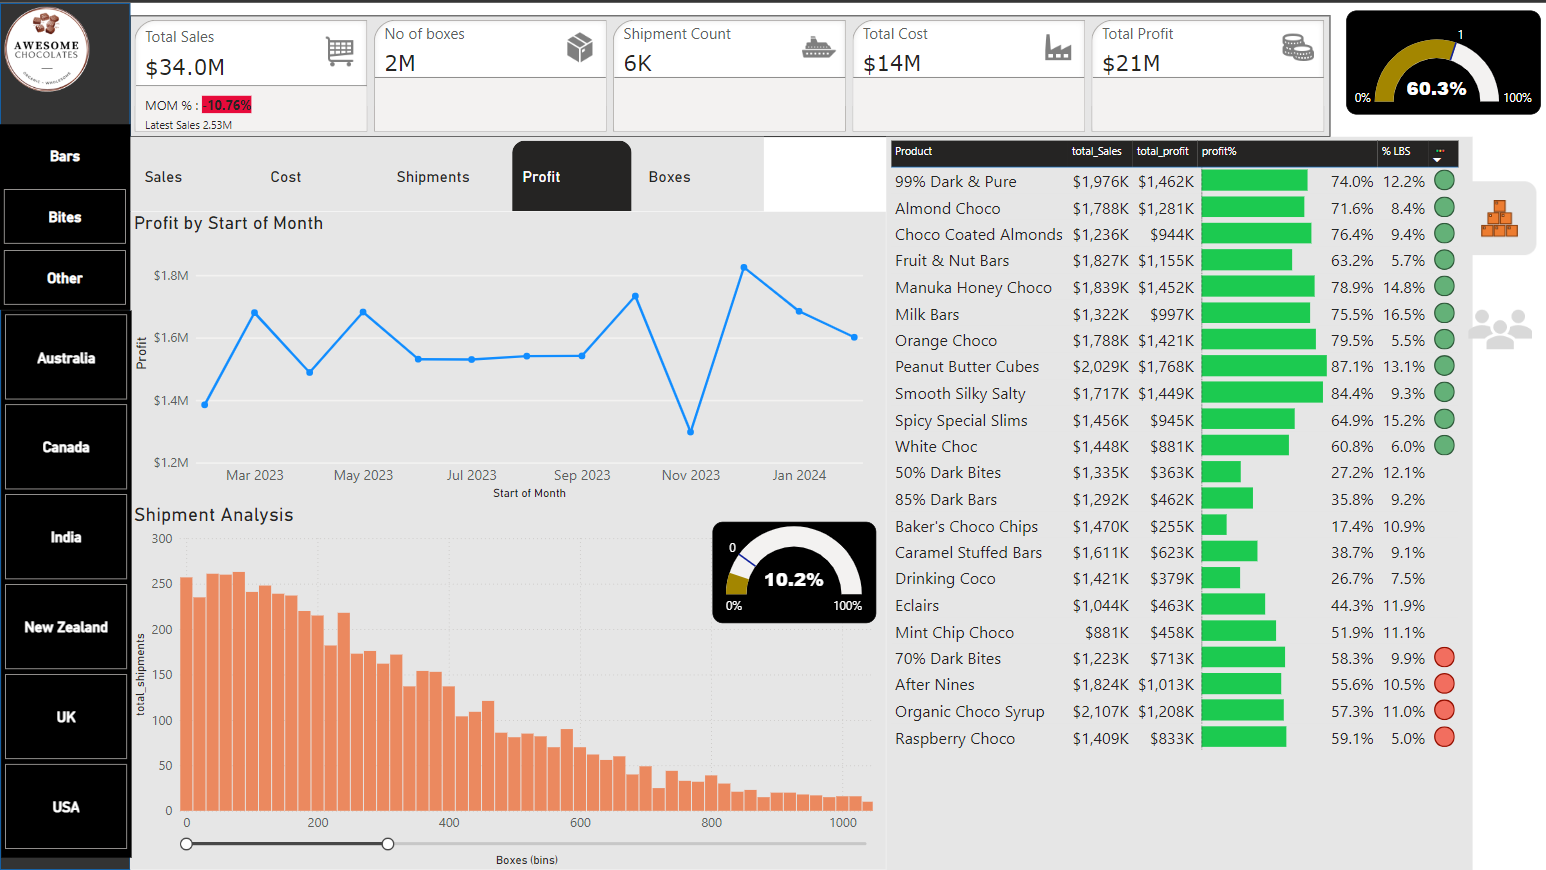

Layout of this report page (visuals, bound fields, positions):
{"tool":"powerbi","page":{"name":"Final Report","canvas":[1920,1080],"ordinal":0},"visuals":[{"type":"gauge","title":"Profit %","fields":{"Y":["_measures.profit%"]},"box":[1677.2,8.7,242.4,129.8],"z":0},{"type":"cardVisual","fields":{"Data":["_measures.total_Sales","_measures.Total_boxes","_measures.total_shipments","_measures.total_cost","_measures.total_profit"]},"box":[162.3,15.1,1495.4,151.5],"z":1000},{"type":"shape","box":[0,0,162.3,1079.9],"z":2000},{"type":"image","box":[0,0,116.9,115.4],"z":3000},{"type":"lineChart","fields":{"Y":["_measures.total_profit"],"Category":["calendar.Start of Month"]},"box":[162.3,259.7,941.4,363.6],"z":4000},{"type":"advancedSlicerVisual","fields":{"Values":["Measure Selector.Measure Selector"]},"box":[162.3,166.6,789.9,93.1],"z":5000},{"type":"columnChart","title":"Shipment Analysis","fields":{"Category":["shipments.Boxes (bins)"],"Y":["_measures.total_shipments"]},"box":[162.3,623.3,941.4,456.6],"z":6000},{"type":"gauge","fields":{"Y":["_measures.% LBS"]},"box":[887.8,645.7,203.6,126.6],"z":7000},{"type":"tableEx","title":"Product Table","fields":{"Values":["shipments.Product","_measures.total_Sales","_measures.total_profit","_measures.profit%","_measures.% LBS","_measures.Profit % Indicator"]},"box":[1104.2,166.9,730,913.5],"z":9000},{"type":"image","title":"Product Higlight","box":[1817.9,214.3,101.7,106],"z":10000},{"type":"image","title":"People  Dull","box":[1818.4,356.1,100.6,100.6],"z":12000},{"type":"advancedSlicerVisual","fields":{"Values":["products.Category"]},"box":[0,151.5,162.3,231.6],"z":14501},{"type":"advancedSlicerVisual","fields":{"Values":["shipments.Geography"]},"box":[2.2,383.1,162.3,681.7],"z":15001}]}

Visuals, with their boxes on the page's 1920x1080 design canvas (x1, y1, x2, y2). These are canvas units, not pixel positions in the 1546x870 screenshot, which may show the page scaled, cropped or inside an application window:
"Profit %" gauge: rect(1677, 9, 1920, 138)
cardVisual - _measures.total_Sales x _measures.Total_boxes: rect(162, 15, 1658, 167)
shape: rect(0, 0, 162, 1080)
image: rect(0, 0, 117, 115)
lineChart - _measures.total_profit x calendar.Start of Month: rect(162, 260, 1104, 623)
advancedSlicerVisual - Measure Selector.Measure Selector: rect(162, 167, 952, 260)
"Shipment Analysis" columnChart: rect(162, 623, 1104, 1080)
gauge - _measures.% LBS: rect(888, 646, 1091, 772)
"Product Table" tableEx: rect(1104, 167, 1834, 1080)
"Product Higlight" image: rect(1818, 214, 1920, 320)
"People  Dull" image: rect(1818, 356, 1919, 457)
advancedSlicerVisual - products.Category: rect(0, 152, 162, 383)
advancedSlicerVisual - shipments.Geography: rect(2, 383, 164, 1065)
